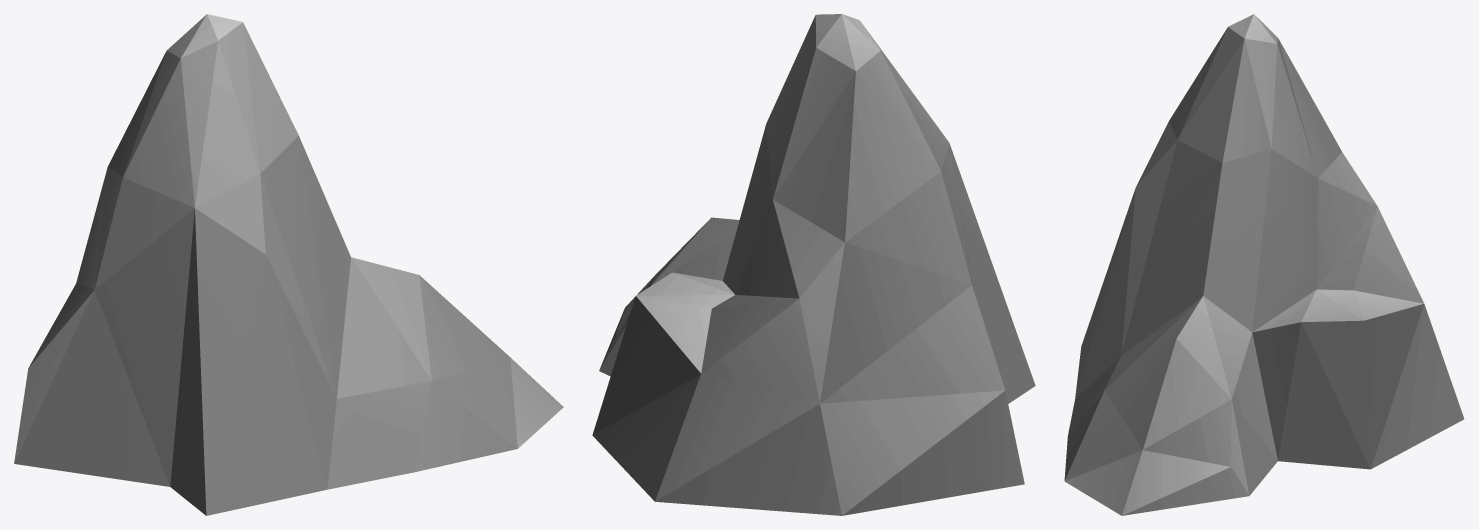
The model's file is GL-Rock-07-LOD3.fbx.
The picture shows the model from 3 angles, left to right: view 1: azimuth 30°, elevation 25°; view 2: azimuth 150°, elevation 25°; view 3: azimuth 270°, elevation 25°; orthographic projection. The views are drawn at different scales.
Visible parts, largest first — view 1: GL_Rock_07; view 2: GL_Rock_07; view 3: GL_Rock_07.
Boxes of the visible parts, box(x1,y1,x2,y2) form: GL_Rock_07: box(14, 14, 563, 515); GL_Rock_07: box(592, 14, 1035, 515); GL_Rock_07: box(1064, 14, 1464, 515).
Size of the model in its own units: 9.18 by 7.64 by 7.38.
